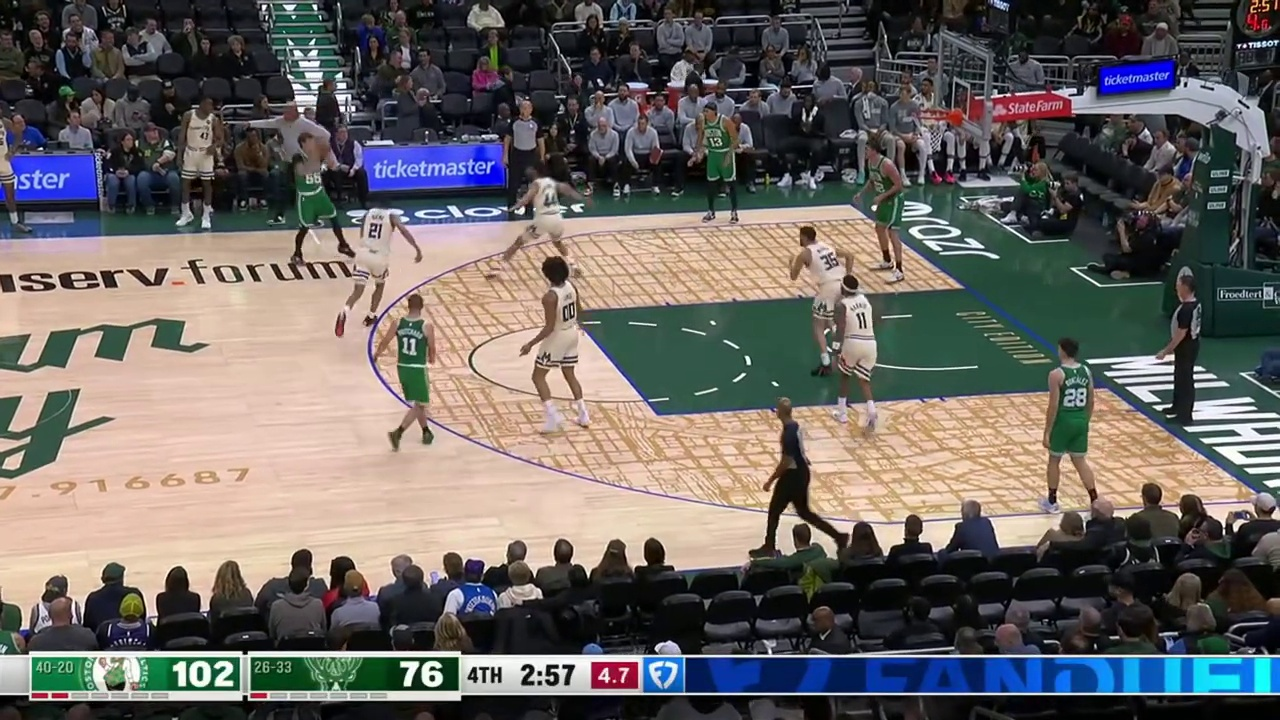0_JerichoSims: (522, 255, 604, 442)
11_GaryHarris: (830, 271, 882, 370)
11_PaytonPrichard: (376, 288, 453, 442)
13_RonHarperJr: (681, 90, 755, 228)
21_OusmaneDieng: (328, 188, 420, 337)
28_HugoGonzalez: (1029, 332, 1106, 502)
35_PeteNance: (785, 203, 842, 283)
44_AndreJacksonJr: (493, 164, 586, 251)
52_LukaGarza: (845, 132, 931, 283)
55_BaylorScheierman: (288, 127, 361, 261)
